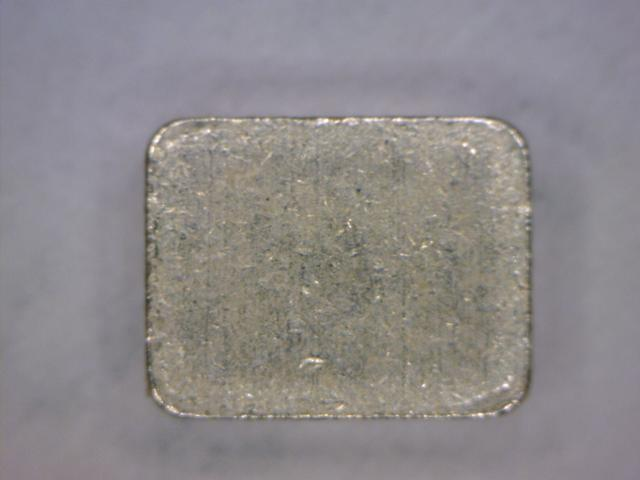ok: (136, 109, 540, 428)
